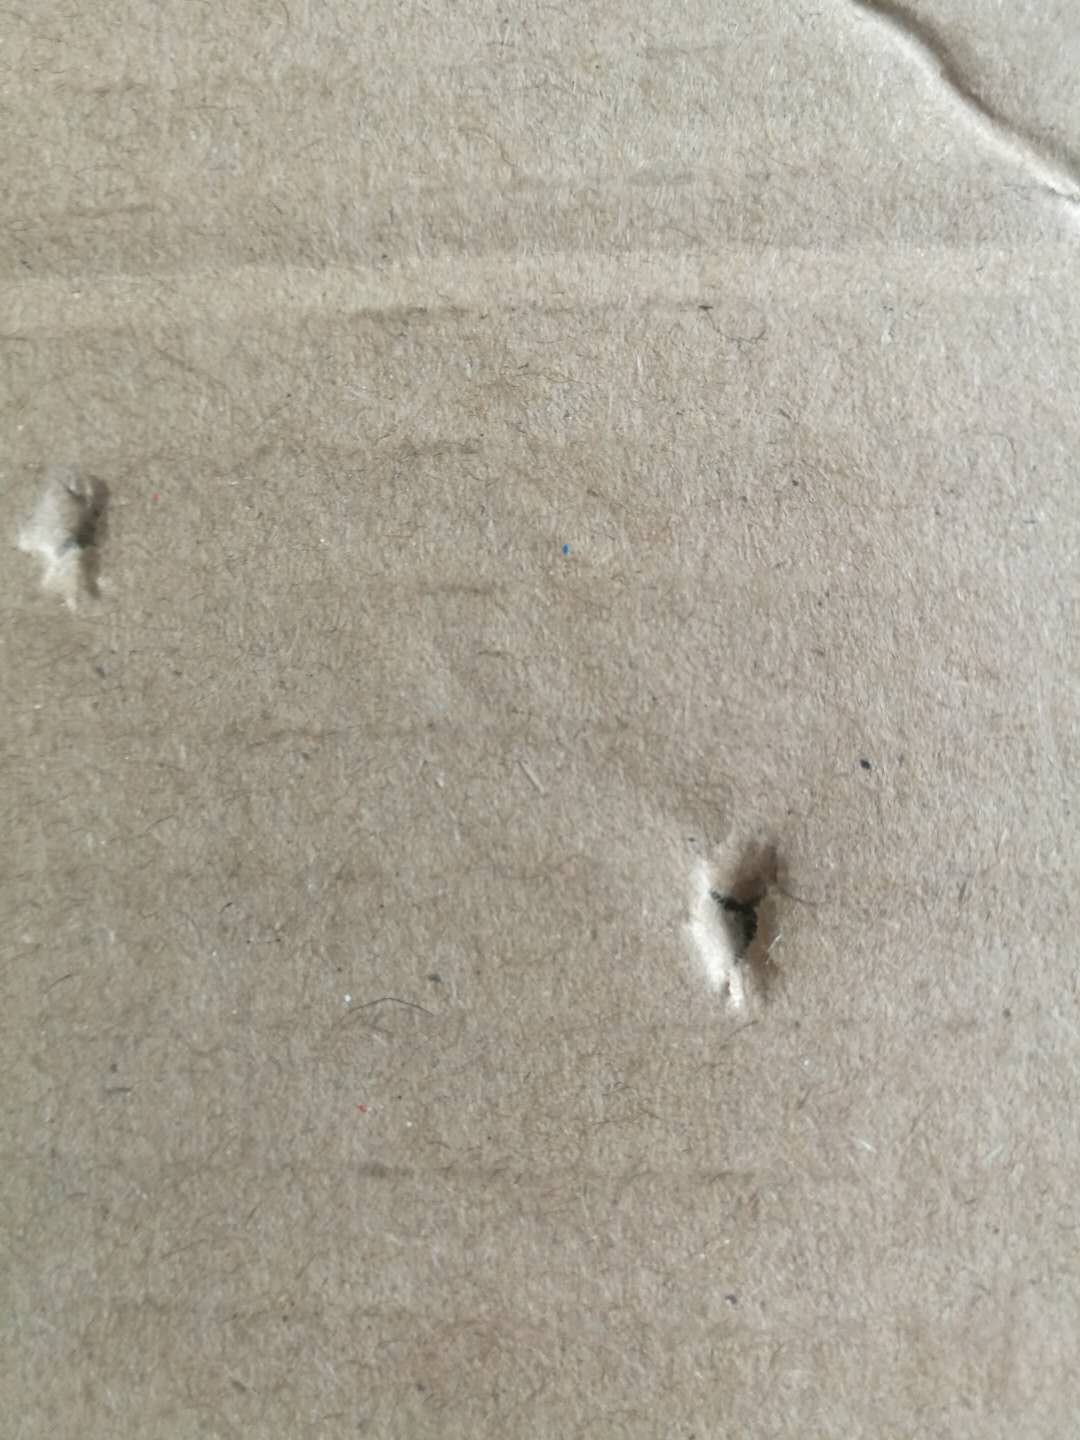defect: (5, 196, 1080, 346), (819, 2, 1080, 221), (659, 801, 834, 1016), (6, 444, 147, 627)
